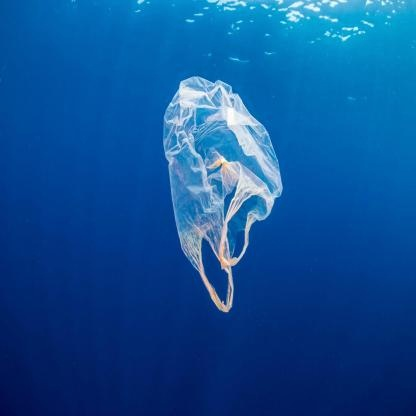pbag: (158, 71, 286, 315)
